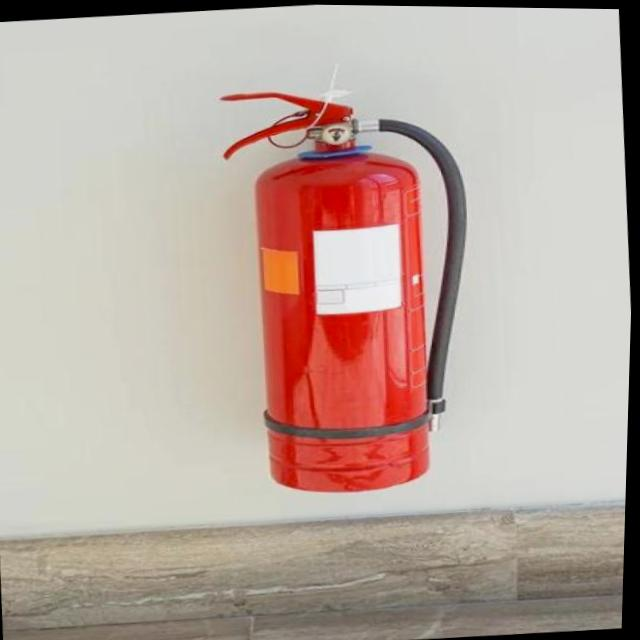FireExtinguisher: (193, 65, 498, 504)
